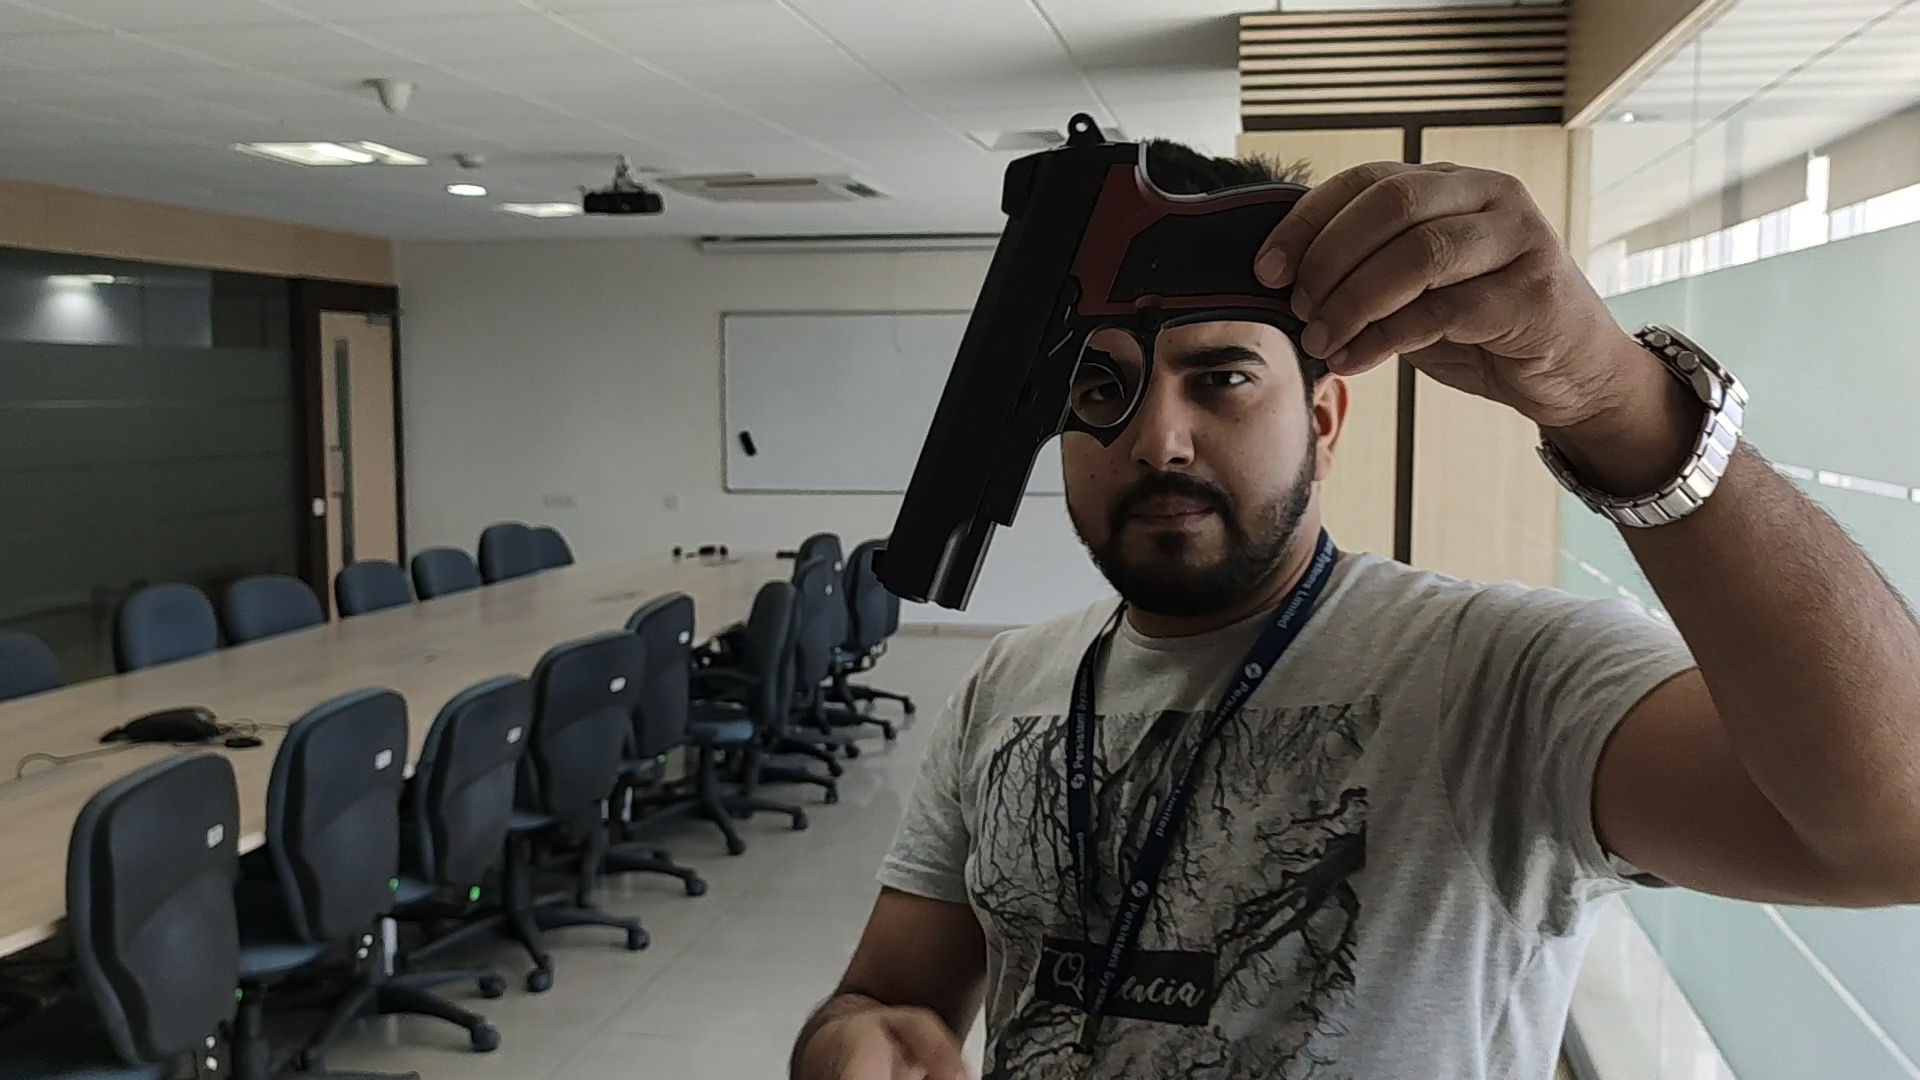gun: (870, 115, 1255, 615)
